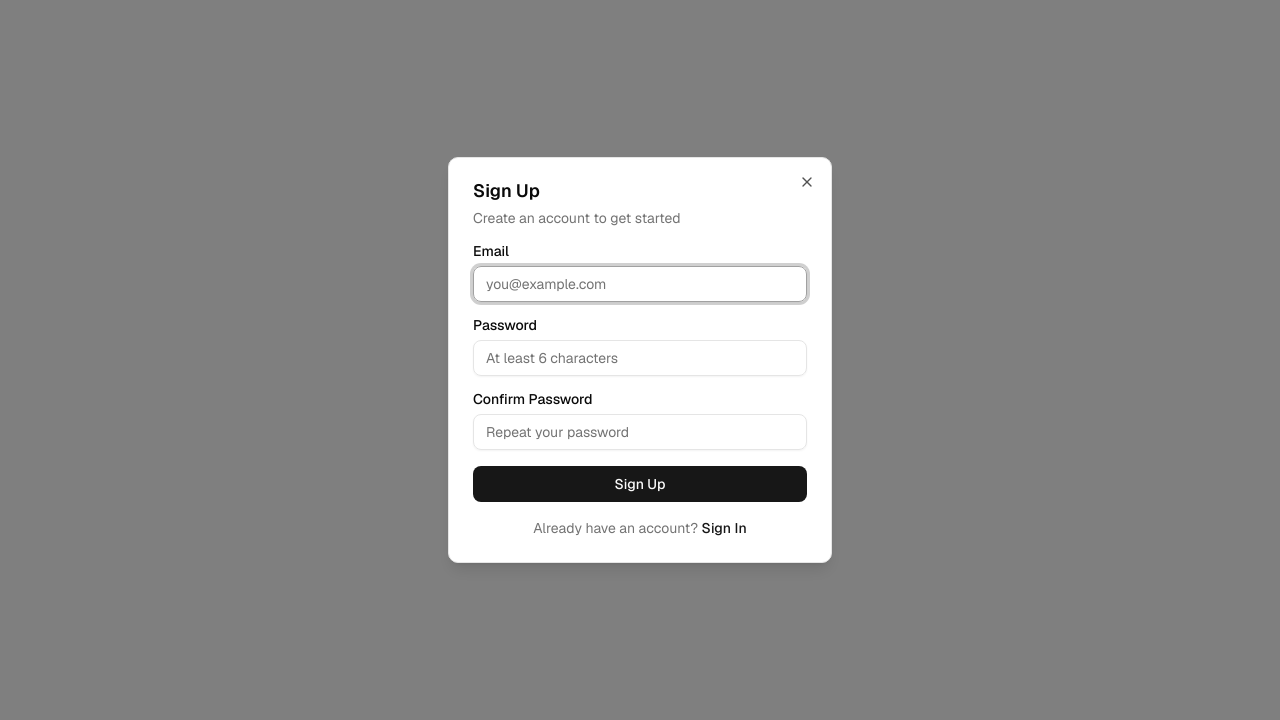
Test: AuthDialog › shows success message after successful registration
In the field labelled "Email": x=640, y=284 [473, 266, 807, 302], type "test@example.com"
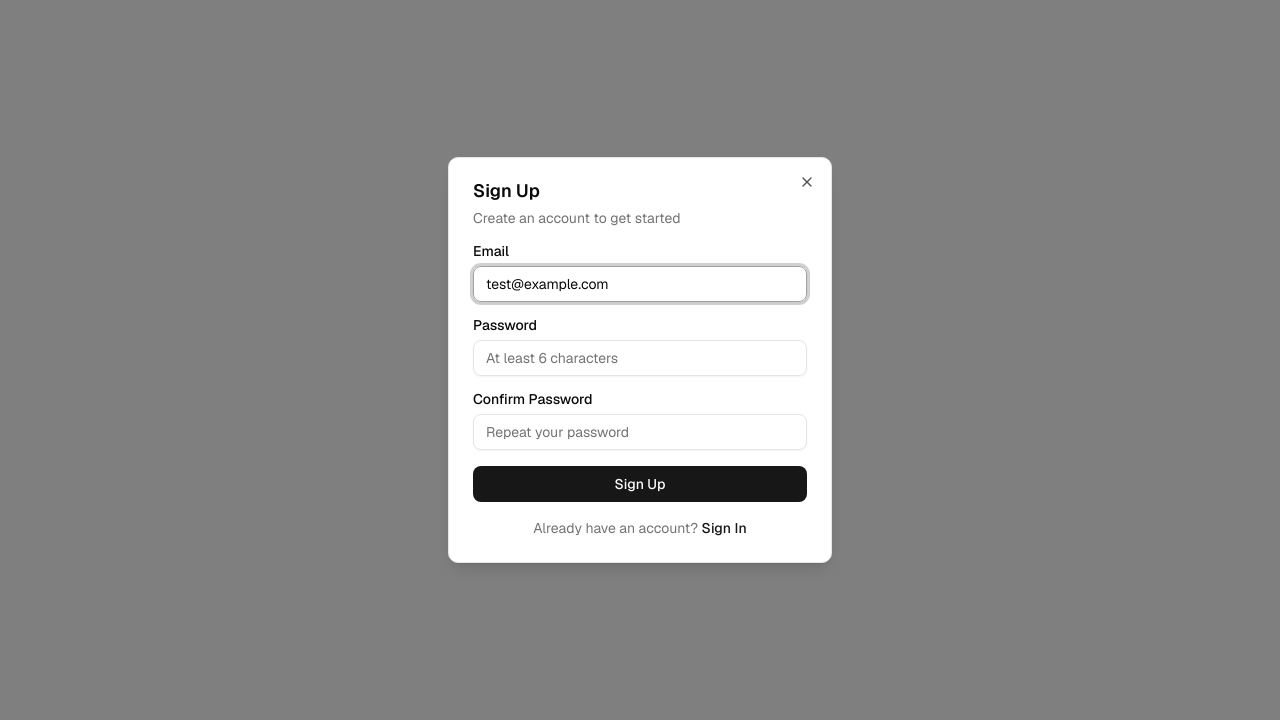
In the password field labelled "Password": x=640, y=358 [473, 340, 807, 376], type "password123"
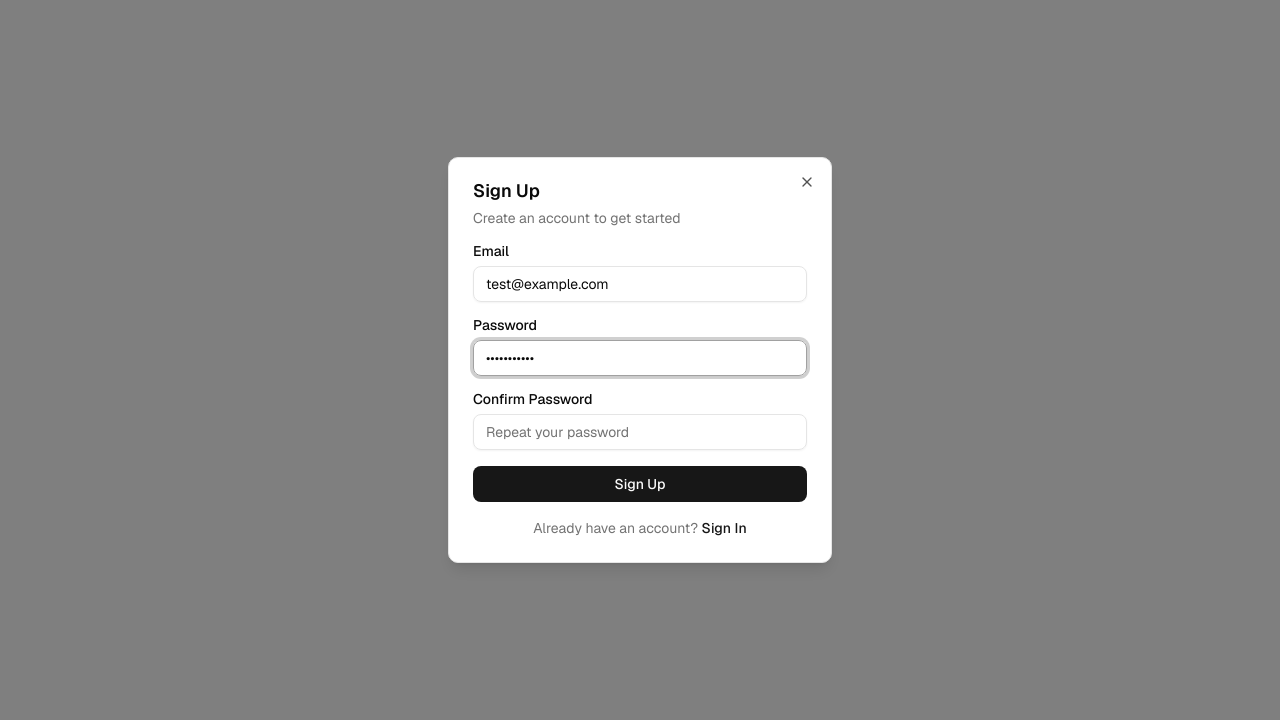
In the password field labelled "Confirm Password": x=640, y=432 [473, 414, 807, 450], type "password123"
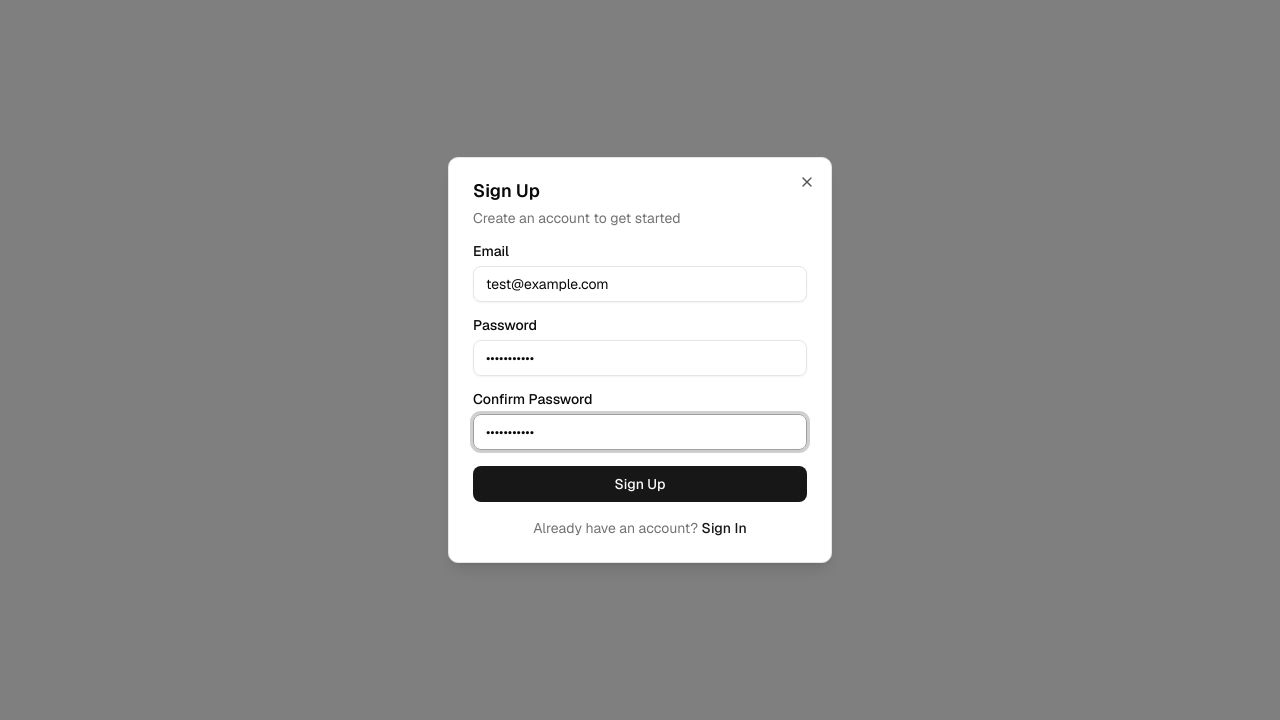
Click the button "Sign Up": x=640, y=484 [473, 466, 807, 502]
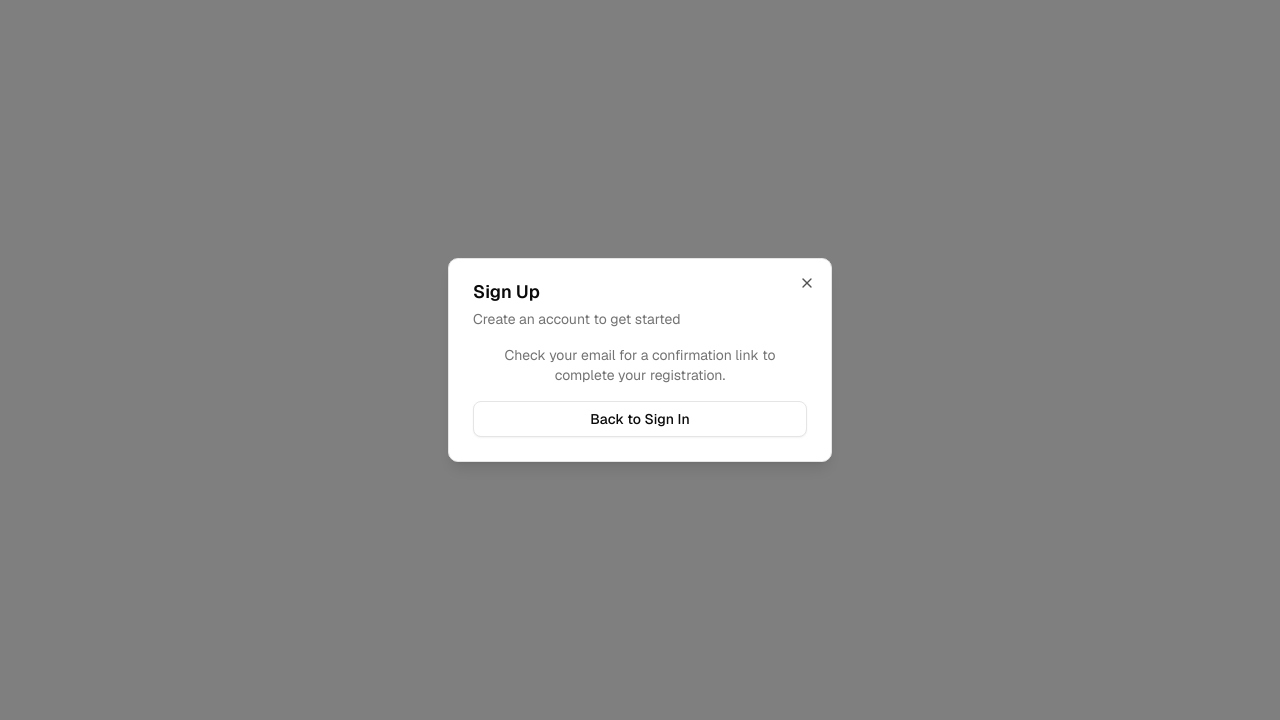
Now the text "Check your email" is shown, box [504, 346, 776, 384]
